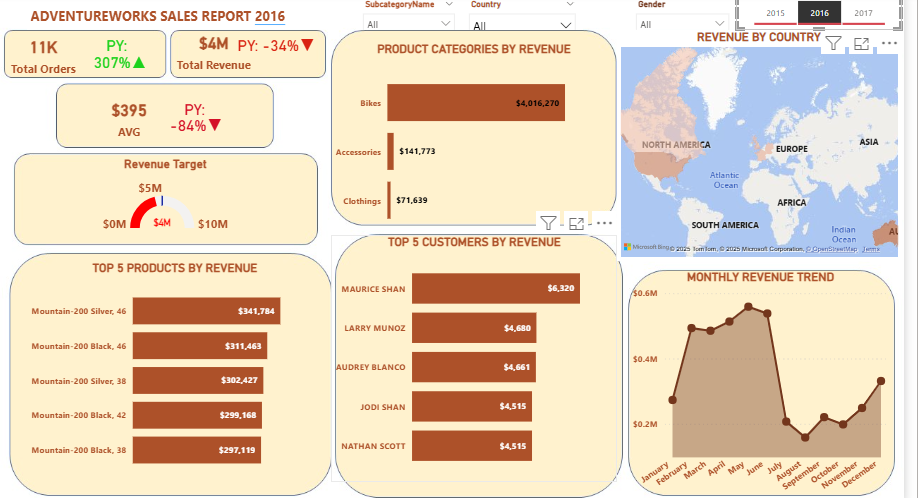

Layout of this report page (visuals, bound fields, positions):
{"tool":"powerbi","page":{"name":"SALES REPORT","canvas":[1280,720],"ordinal":3},"visuals":[{"type":"card","fields":{"Values":["DAX MEASURES.Total Orders"]},"box":[0,48.2,123.3,68],"z":0},{"type":"card","fields":{"Values":["AdventureWorks _Sales.Orders Growth %"]},"box":[106.3,48.2,129,68],"z":1000},{"type":"card","fields":{"Values":["DAX MEASURES.Total Revenue"]},"box":[243.8,36.9,119.1,79.4],"z":2000},{"type":"card","fields":{"Values":["AdventureWorks _Sales.Reveue Growth%"]},"box":[326,48.2,131.8,42.5],"z":3000},{"type":"card","fields":{"Values":["AdventureWorks _Sales.AVG Growth %"]},"box":[219.7,136.1,117.6,72.3],"z":4000},{"type":"card","fields":{"Values":["DAX MEASURES.AVG"]},"box":[122.8,116.5,120.3,111.4],"z":5000},{"type":"slicer","fields":{"Values":["Calendar.Year"]},"box":[1043.1,0,235.3,48.2],"z":6000},{"type":"gauge","title":" Revenue Target","fields":{"Y":["DAX MEASURES.Total Revenue"],"MaxValue":["DAX MEASURES.Rev Max"],"TargetValue":["DAX MEASURES.Rev Target"]},"box":[58.1,228.2,352.9,110.6],"z":7000},{"type":"clusteredBarChart","title":"TOP 5 PRODUCTS  BY REVENUE","fields":{"Y":["DAX MEASURES.Total Revenue"],"Category":["AdventureWorks_Products - AdventureWorks_Products.ProductName"]},"box":[38.3,375.6,419.5,313.2],"z":8000},{"type":"clusteredBarChart","title":"TOP 5 CUSTOMERS  BY REVENUE","fields":{"Y":["DAX MEASURES.Total Revenue"],"Category":["AdventureWorks_Customers - AdventureWorks_Customers (1).Full name"]},"box":[468.7,339.3,406.5,349.4],"z":9000},{"type":"clusteredBarChart","title":"PRODUCT CATEGORIES  BY REVENUE","fields":{"Y":["DAX MEASURES.Total Revenue"],"Category":["AdventureWorks_Product_Categories - AdventureWorks_Product_Categories.Category Name","AdventureWorks_Product_Subcategory - AdventureWorks_Product_Subcategory.SubcategoryName"]},"box":[469.1,65.2,405.4,286.3],"z":10000},{"type":"areaChart","title":" MONTHLY REVENUE TREND","fields":{"Category":["Calendar.month"],"Y":["DAX MEASURES.Total Revenue"]},"box":[892,388,372.9,332.6],"z":11000},{"type":"slicer","fields":{"Values":["AdventureWorks_Territories - AdventureWorks_Territories.Country"]},"box":[654.8,0,171.5,48.2],"z":12000},{"type":"slicer","fields":{"Values":["AdventureWorks_Customers - AdventureWorks_Customers (1).Gender"]},"box":[891.5,0,151.7,48.2],"z":13000},{"type":"slicer","fields":{"Values":["AdventureWorks_Product_Subcategory - AdventureWorks_Product_Subcategory.SubcategoryName"]},"box":[504.6,0,150.2,48.2],"z":14000},{"type":"textbox","box":[38.3,9.9,447.9,38.3],"z":15000},{"type":"filledMap","title":" REVENUE BY COUNTRY","fields":{"Category":["AdventureWorks_Territories - AdventureWorks_Territories.Country"]},"box":[874.5,48.2,402.5,327.4],"z":16000}]}

Visuals, with their boxes on the page's 1280x720 design canvas (x1, y1, x2, y2). These are canvas units, not pixel positions in the 918x498 screenshot, which may show the page scaled, cropped or inside an application window:
card - DAX MEASURES.Total Orders: box=[0, 48, 123, 116]
card - AdventureWorks _Sales.Orders Growth %: box=[106, 48, 235, 116]
card - DAX MEASURES.Total Revenue: box=[244, 37, 363, 116]
card - AdventureWorks _Sales.Reveue Growth%: box=[326, 48, 458, 91]
card - AdventureWorks _Sales.AVG Growth %: box=[220, 136, 337, 208]
card - DAX MEASURES.AVG: box=[123, 116, 243, 228]
slicer - Calendar.Year: box=[1043, 0, 1278, 48]
" Revenue Target" gauge: box=[58, 228, 411, 339]
"TOP 5 PRODUCTS  BY REVENUE" clusteredBarChart: box=[38, 376, 458, 689]
"TOP 5 CUSTOMERS  BY REVENUE" clusteredBarChart: box=[469, 339, 875, 689]
"PRODUCT CATEGORIES  BY REVENUE" clusteredBarChart: box=[469, 65, 874, 352]
" MONTHLY REVENUE TREND" areaChart: box=[892, 388, 1265, 721]
slicer - AdventureWorks_Territories - AdventureWorks_Territories.Country: box=[655, 0, 826, 48]
slicer - AdventureWorks_Customers - AdventureWorks_Customers (1).Gender: box=[892, 0, 1043, 48]
slicer - AdventureWorks_Product_Subcategory - AdventureWorks_Product_Subcategory.SubcategoryName: box=[505, 0, 655, 48]
textbox: box=[38, 10, 486, 48]
" REVENUE BY COUNTRY" filledMap: box=[874, 48, 1277, 376]
